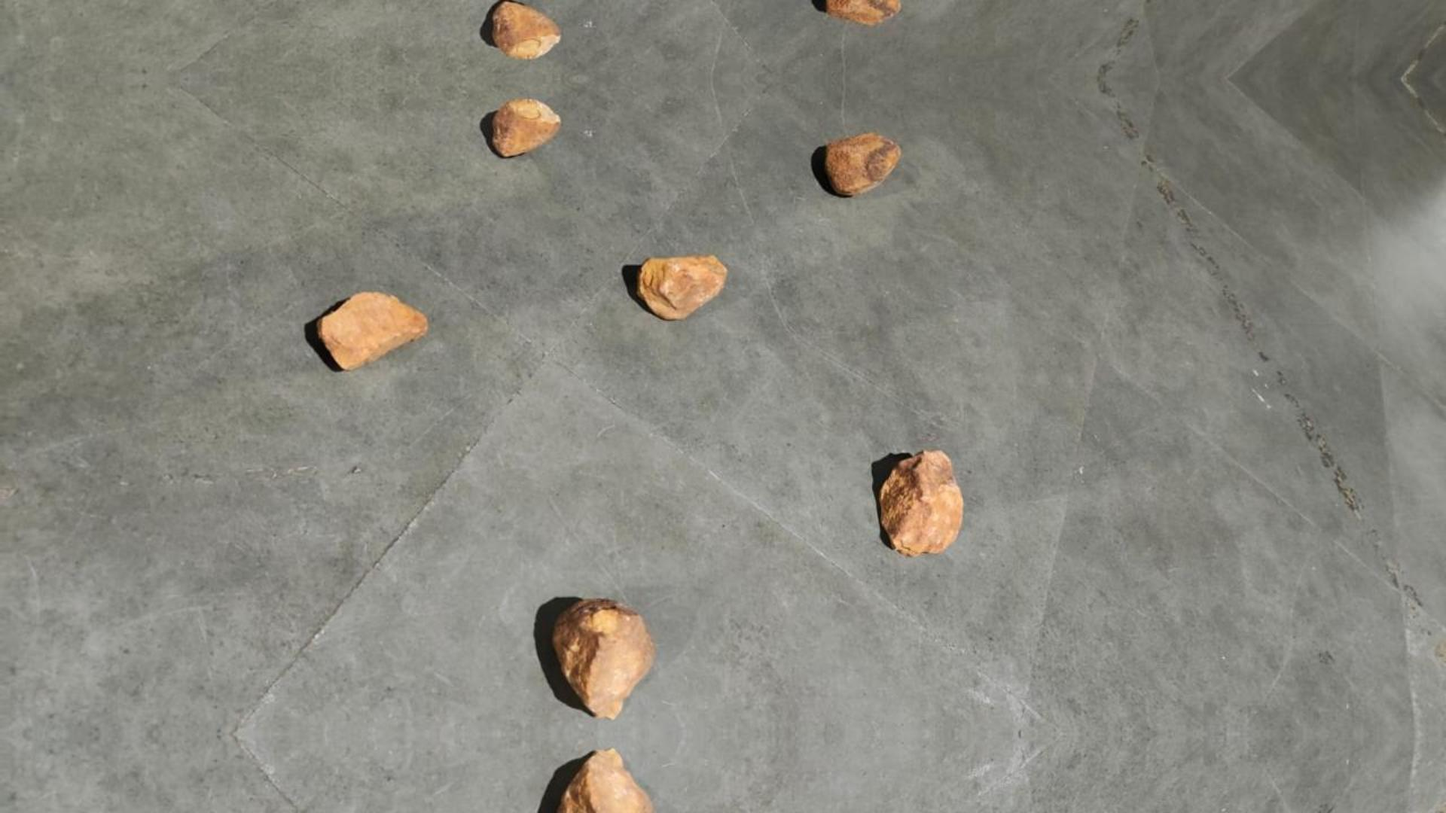rock: (552, 598, 654, 718), (877, 451, 962, 556), (316, 292, 428, 369), (555, 749, 654, 812), (637, 255, 726, 320), (825, 132, 900, 195), (488, 98, 560, 157), (489, 0, 560, 59), (813, 0, 900, 25)
